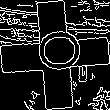O_W: (28, 31, 82, 79)
